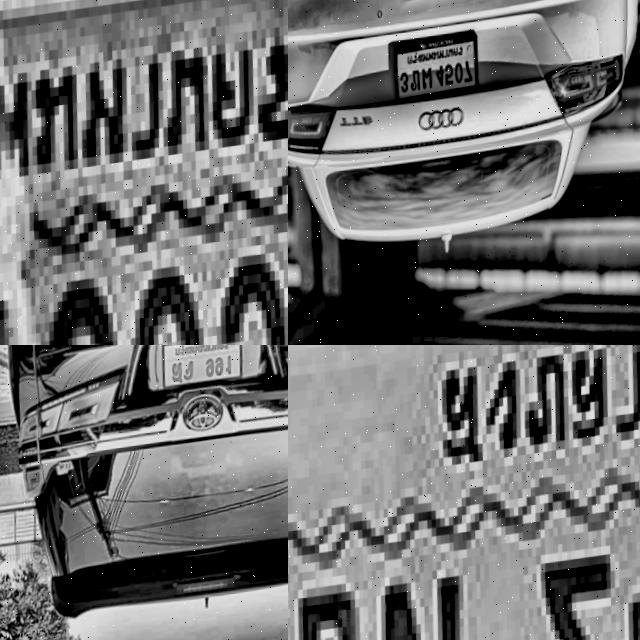license-plate: (288, 345, 640, 640), (0, 0, 288, 345), (393, 33, 484, 108), (163, 345, 245, 396)
